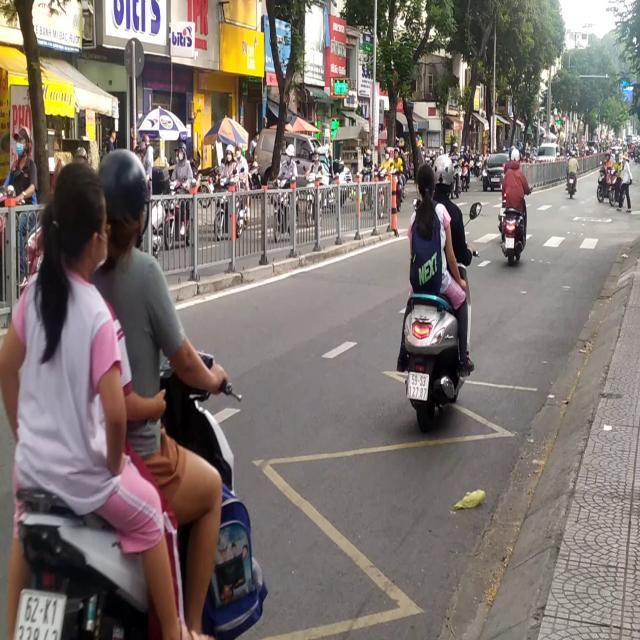bien_trang: (11, 587, 64, 640), (407, 370, 429, 398)
